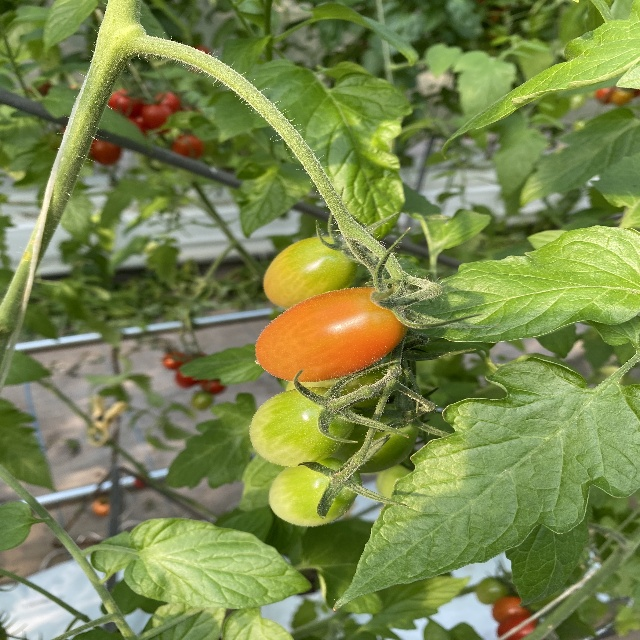l_green: (250, 387, 357, 467), (268, 460, 363, 528), (330, 403, 419, 473), (286, 362, 396, 412)
l_half_ripened: (255, 286, 409, 382), (261, 237, 364, 309)
